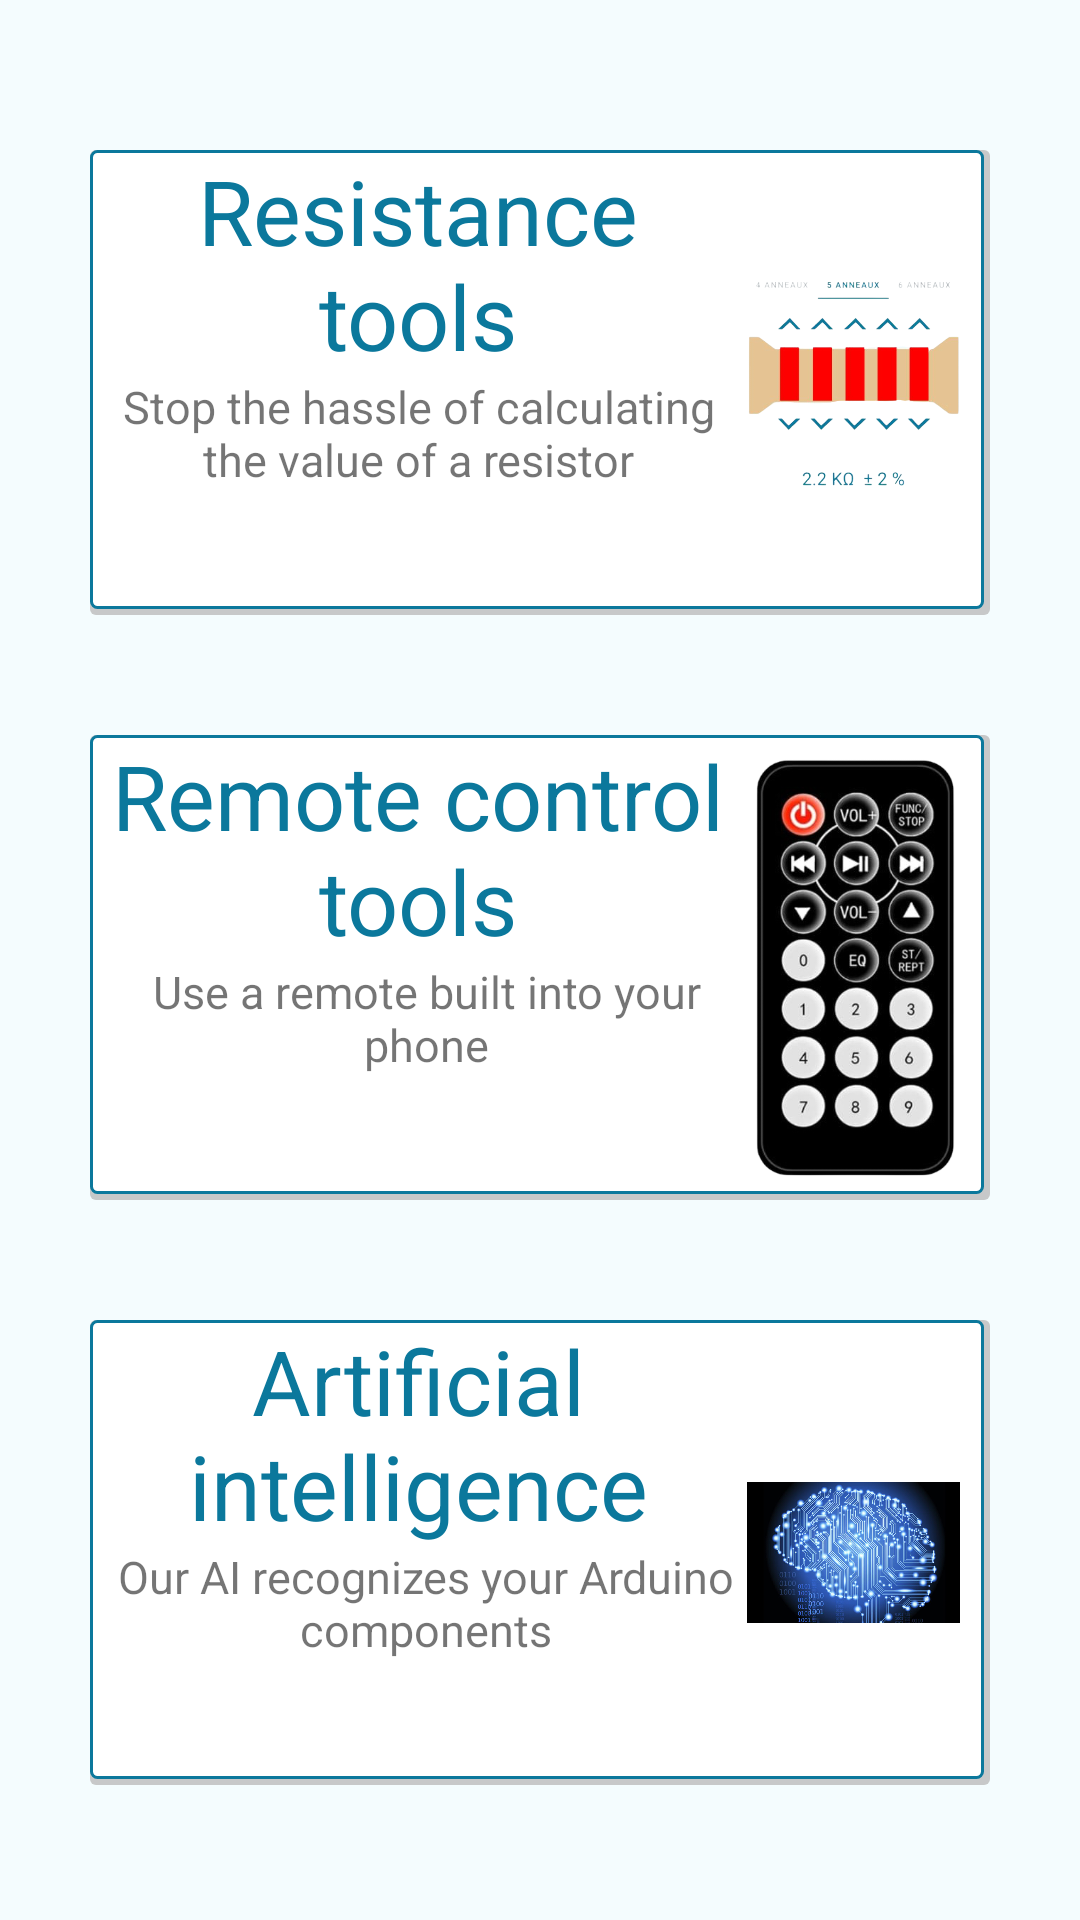

Locate icon controls on the screen. Image size 1080x1920, boxes as (x1, y1, x2, y2).
outils ia: (747, 1482, 960, 1623)
outils menu resistance: (749, 282, 959, 486)
